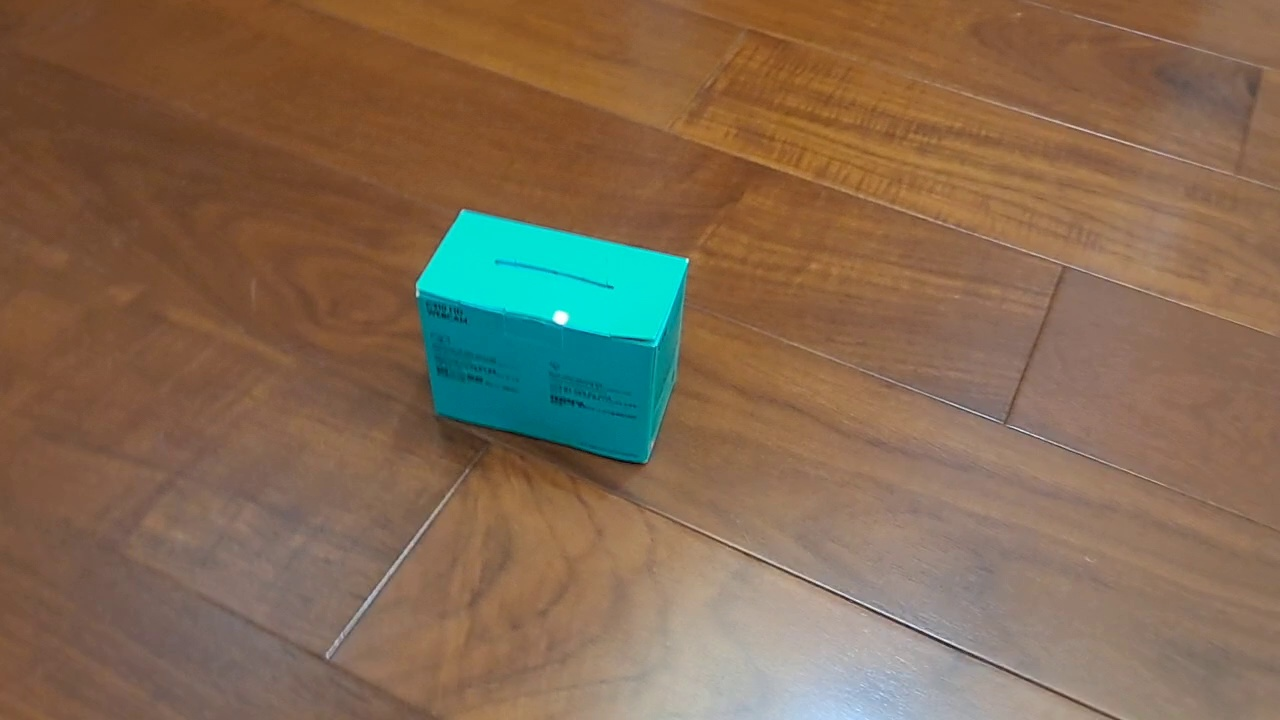webcam: (413, 207, 691, 467)
